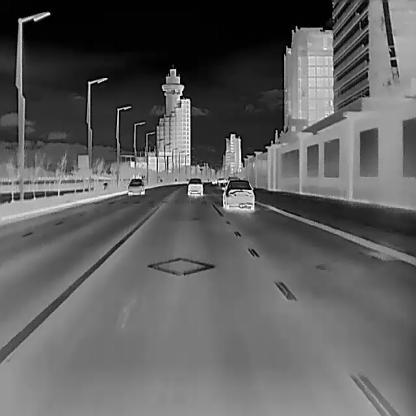car: (220, 180, 254, 209), (126, 176, 144, 196), (187, 177, 203, 196)
